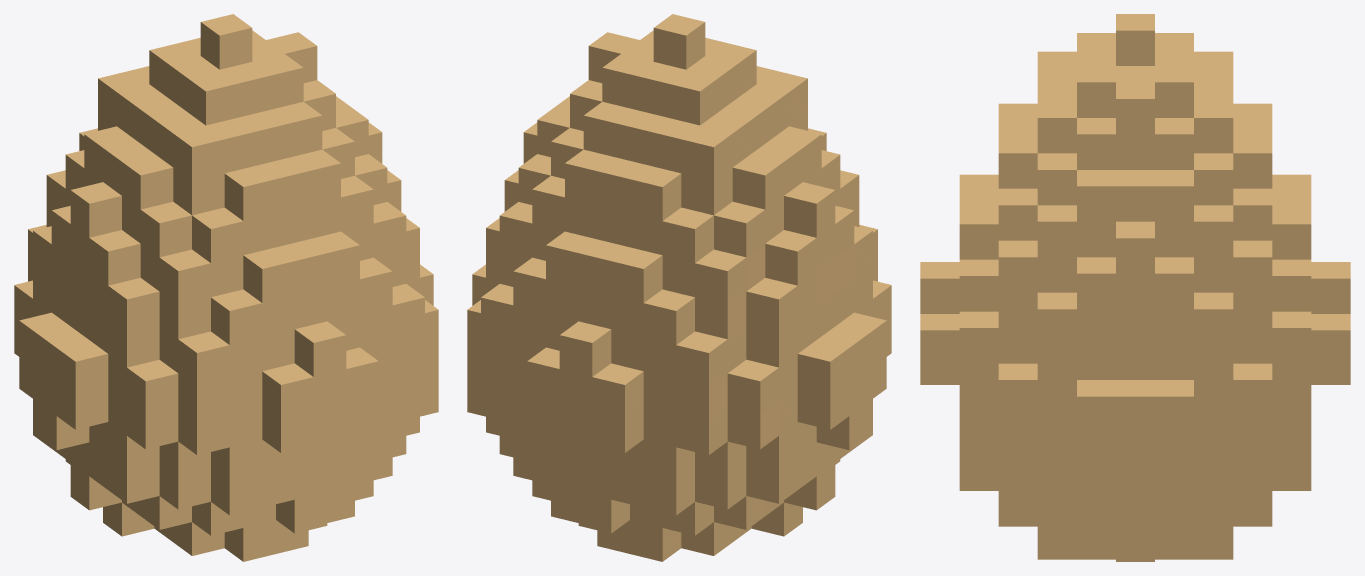
Rendered from ggj2026_egg.fbx.
3 renders of one model, left to right at view 1: azimuth 30°, elevation 25°; view 2: azimuth 150°, elevation 25°; view 3: azimuth 270°, elevation 25°, orthographic. The views are drawn at different scales.
Visible parts, largest first — view 1: Icosphere; view 2: Icosphere; view 3: Icosphere.
Boxes of the visible parts, x1=… form: Icosphere: x1=14, y1=14, x2=438, y2=561; Icosphere: x1=467, y1=14, x2=891, y2=561; Icosphere: x1=920, y1=14, x2=1350, y2=561.
Size of the model in its own units: 219 by 298 by 219.
